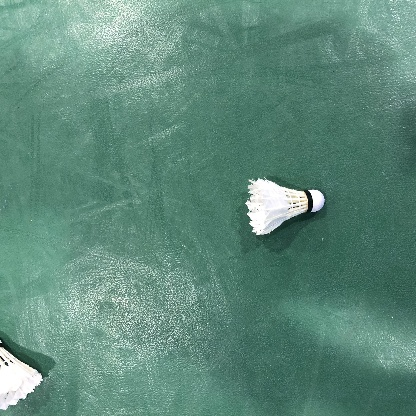ball_single: (245, 179, 324, 236), (0, 339, 43, 410)
